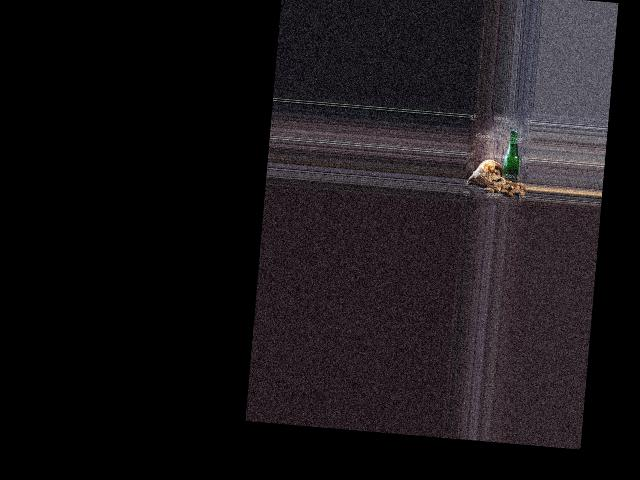beer: (502, 129, 522, 186)
